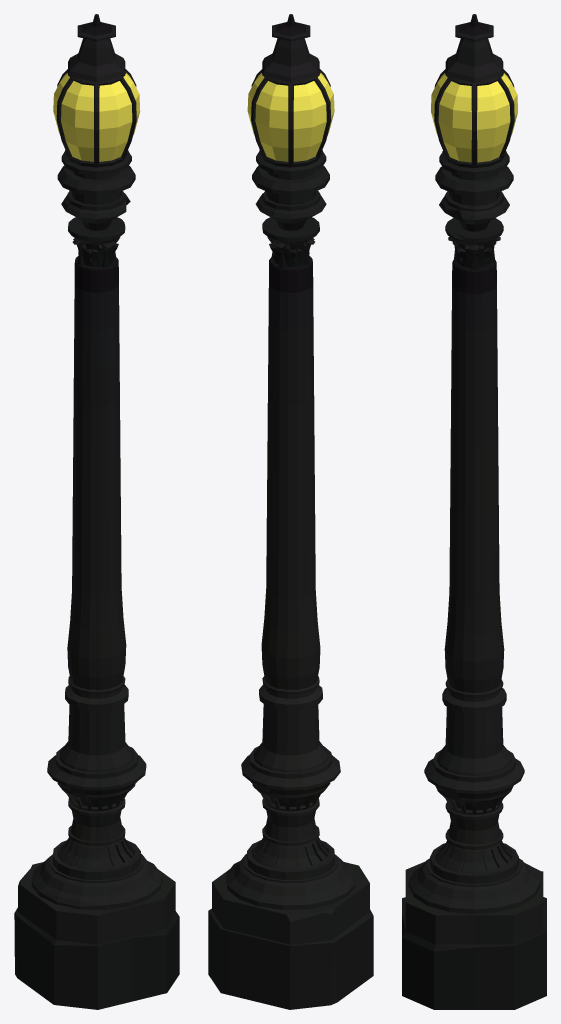
Rendered from LightPole08.fbx.
3 renders of one model, left to right at view 1: azimuth 30°, elevation 25°; view 2: azimuth 150°, elevation 25°; view 3: azimuth 270°, elevation 25°, orthographic.
Visible parts, largest first — view 1: SM_City_LightPole_02c.mo; view 2: SM_City_LightPole_02c.mo; view 3: SM_City_LightPole_02c.mo.
Boxes of the visible parts, x1,y1,x2,y2 form: SM_City_LightPole_02c.mo: [14, 14, 179, 1009]; SM_City_LightPole_02c.mo: [208, 14, 373, 1009]; SM_City_LightPole_02c.mo: [402, 14, 546, 1009].
Bounding box in the file's own units: 87.85 × 643 × 87.38.
